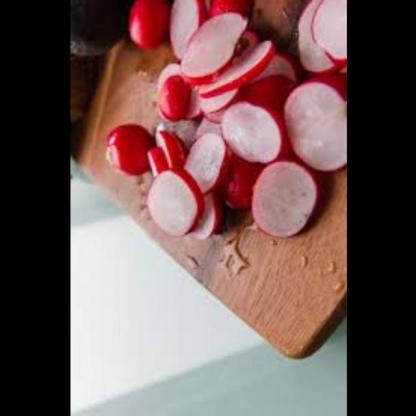rediska: (131, 1, 344, 247), (102, 109, 154, 182), (116, 1, 166, 58)
